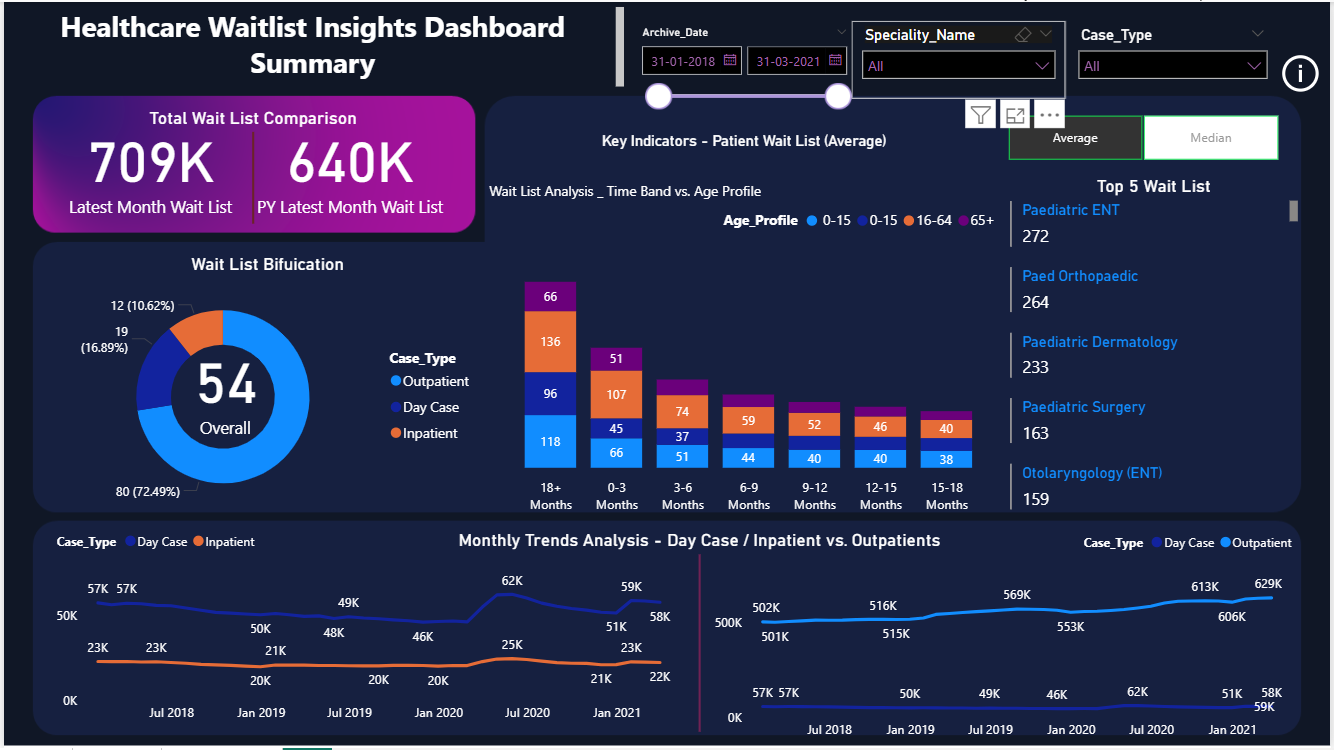

Layout of this report page (visuals, bound fields, positions):
{"tool":"powerbi","page":{"name":"Summary","canvas":[1280,720],"ordinal":0},"visuals":[{"type":"card","fields":{"Values":["All_Data.Latest Month Wait List"]},"box":[45.8,102.5,191.8,112.2],"z":0},{"type":"card","fields":{"Values":["All_Data.PY Latest Month Wait List"]},"box":[237.7,102.5,193,112.2],"z":1000},{"type":"slicer","fields":{"Values":["Table.Cal Table"]},"box":[943.4,102.5,310.1,56.7],"z":2000},{"type":"donutChart","title":"Wait List Bifuication","fields":{"Category":["All_Data.Case_Type"],"Y":["All_Data.Avg/Med Wait List"]},"box":[46.2,241.9,417.2,258.2],"z":3000},{"type":"card","fields":{"Values":["All_Data.No Data Left"]},"box":[130.5,526,449.9,179.4],"z":4000},{"type":"columnChart","fields":{"Series":["All_Data.Age_Profile"],"Category":["All_Data.Time_Bands"],"Y":["All_Data.Avg/Med Wait List"]},"box":[463.3,167.7,503.1,333],"z":5000},{"type":"lineChart","fields":{"Category":["All_Data.Archive_Date"],"Y":["Sum(All_Data.Total)"],"Series":["All_Data.Case_Type"]},"box":[45.8,500.7,616.5,203.9],"z":6000},{"type":"card","fields":{"Values":["All_Data.NoDataRight"]},"box":[708.1,524.6,449.9,179.4],"z":7000},{"type":"slicer","fields":{"Values":["All_Data.Archive_Date"]},"box":[603.4,17.7,222.9,91.1],"z":8000},{"type":"slicer","fields":{"Values":["All_Data.Speciality_Name"]},"box":[818.2,17.7,206.6,74.8],"z":9000},{"type":"slicer","fields":{"Values":["All_Data.Case_Type"]},"box":[1026.1,17.7,202.5,74.8],"z":10000},{"type":"textbox","box":[0,0,603.4,92.4],"z":11000},{"type":"shape","title":"Total Wait List Comparison","box":[32.6,101.9,415.9,112.8],"z":12000},{"type":"shape","title":"Monthly Trends Analysis - Day Case / Inpatient vs. Outpatients","box":[421,509.1,500.7,195.4],"z":13000},{"type":"card","fields":{"Values":["All_Data.Avg/Med Wait List"]},"box":[130.5,322.1,167.2,100.6],"z":14000},{"type":"card","fields":{"Values":["All_Data.Dynamic Tilte"]},"box":[482.5,101.9,463.5,68],"z":15000},{"type":"multiRowCard","title":"Top 5 Wait List","fields":{"Values":["All_Data.Avg/Med Wait List","All_Data.Speciality_Name"]},"box":[966,168,287,333],"z":16000},{"type":"actionButton","box":[1228.6,46.2,48.9,46.2],"z":17000},{"type":"lineChart","fields":{"Category":["All_Data.Archive_Date"],"Y":["Sum(All_Data.Total)"],"Series":["All_Data.Case_Type"]},"box":[680.9,501.5,572.2,218.8],"z":18000}]}

Visuals, with their boxes in screenshot pixels (x1, y1, x2, y2), scaled from the page's 1280x720 canvas onto the 1334x750 screenshot:
card - All_Data.Latest Month Wait List: {"left": 48, "top": 107, "right": 248, "bottom": 224}
card - All_Data.PY Latest Month Wait List: {"left": 248, "top": 107, "right": 449, "bottom": 224}
slicer - Table.Cal Table: {"left": 983, "top": 107, "right": 1306, "bottom": 166}
"Wait List Bifuication" donutChart: {"left": 48, "top": 252, "right": 483, "bottom": 521}
card - All_Data.No Data Left: {"left": 136, "top": 548, "right": 605, "bottom": 735}
columnChart - All_Data.Age_Profile x All_Data.Time_Bands: {"left": 483, "top": 175, "right": 1007, "bottom": 522}
lineChart - All_Data.Archive_Date x Sum(All_Data.Total): {"left": 48, "top": 522, "right": 690, "bottom": 734}
card - All_Data.NoDataRight: {"left": 738, "top": 546, "right": 1207, "bottom": 733}
slicer - All_Data.Archive_Date: {"left": 629, "top": 18, "right": 861, "bottom": 113}
slicer - All_Data.Speciality_Name: {"left": 853, "top": 18, "right": 1068, "bottom": 96}
slicer - All_Data.Case_Type: {"left": 1069, "top": 18, "right": 1280, "bottom": 96}
textbox: {"left": 0, "top": 0, "right": 629, "bottom": 96}
"Total Wait List Comparison" shape: {"left": 34, "top": 106, "right": 467, "bottom": 224}
"Monthly Trends Analysis - Day Case / Inpatient vs. Outpatients" shape: {"left": 439, "top": 530, "right": 961, "bottom": 734}
card - All_Data.Avg/Med Wait List: {"left": 136, "top": 336, "right": 310, "bottom": 440}
card - All_Data.Dynamic Tilte: {"left": 503, "top": 106, "right": 986, "bottom": 177}
"Top 5 Wait List" multiRowCard: {"left": 1007, "top": 175, "right": 1306, "bottom": 522}
actionButton: {"left": 1280, "top": 48, "right": 1331, "bottom": 96}
lineChart - All_Data.Archive_Date x Sum(All_Data.Total): {"left": 710, "top": 522, "right": 1306, "bottom": 749}
